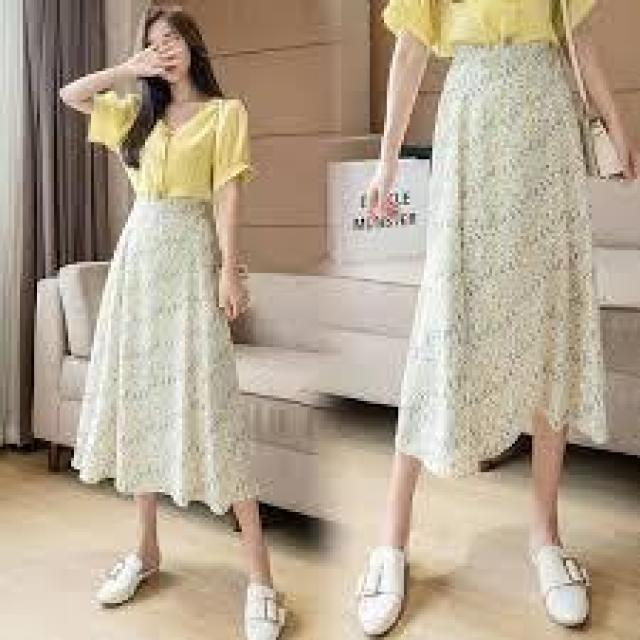skirt: (391, 44, 610, 482), (70, 200, 260, 510)
